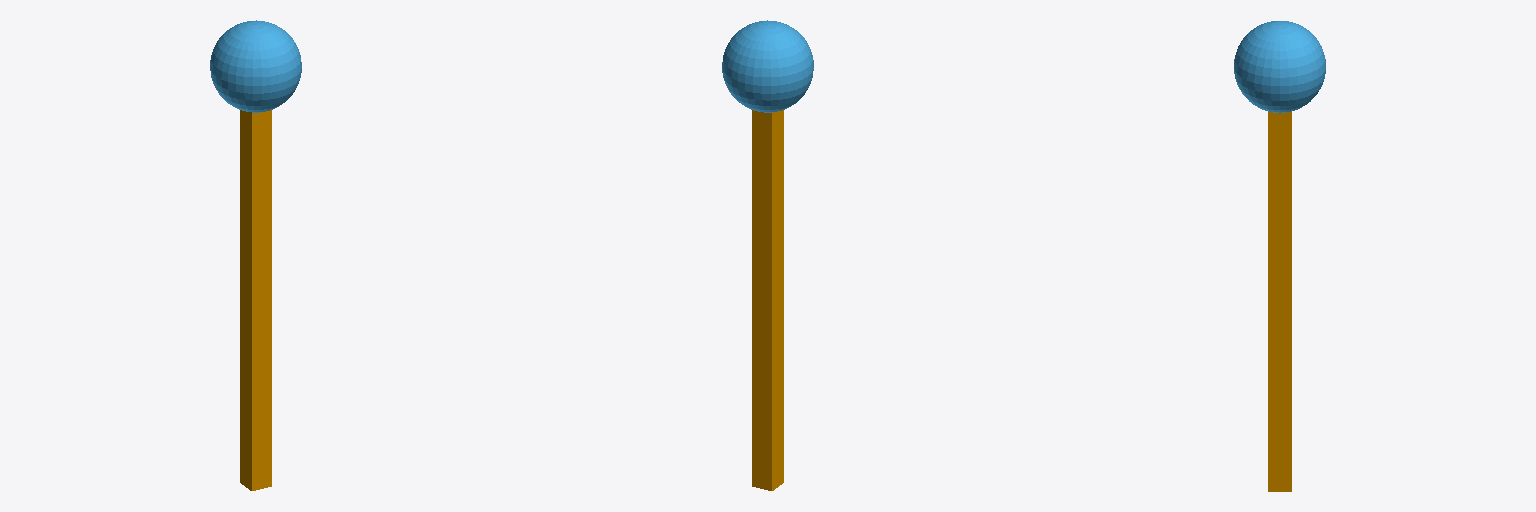
robot.urdf — myfirst:
<?xml version="1.0"?>
<robot name="myfirst">

   <link name="stick_link">
      <visual>
         <geometry>
            <box size="0.01 0.01 0.2"/>
         </geometry>
         <material name="panda_white"/>
      </visual>
      <collision>
         <geometry>
            <box size="0.01 0.01 0.2"/>
         </geometry>
      </collision>
   </link>

   <link name="end_link">
      <visual>
         <geometry>
            <sphere radius="0.02"/>
         </geometry>
         <material name="panda_white"/>
      </visual>
      <collision>
         <geometry>
            <sphere radius="0.02"/>
         </geometry>
      </collision>
   </link>

   <joint name="stick_joint" type="fixed">
      <origin xyz="0 0 0.1" rpy="0 0 0"/>
      <parent link="stick_link"/>
      <child link="end_link"/>
   </joint>

</robot>

--- Facts derived from the render (not from the file) ---
3 views of the same robot in one strip: view 1: azimuth 30°, elevation 25°; view 2: azimuth 150°, elevation 25°; view 3: azimuth 270°, elevation 25° (orthographic).
Robot: myfirst — 2 links, 1 joints (1 fixed); root link stick_link; default pose: every joint at zero.
Links seen in each view (by area): view 1: stick_link, end_link; view 2: stick_link, end_link; view 3: stick_link, end_link.
Boxes of the visible links, x1,y1,x2,y2 form: stick_link: [240, 110, 271, 490]; end_link: [210, 20, 301, 112]; stick_link: [752, 110, 783, 490]; end_link: [722, 20, 813, 112]; stick_link: [1268, 111, 1291, 491]; end_link: [1234, 21, 1325, 112].
Bounding box of the posed robot: 0.04 × 0.04 × 0.22 m (x, y, z).
Geometry: primitives only (box / cylinder / sphere), no mesh files.
